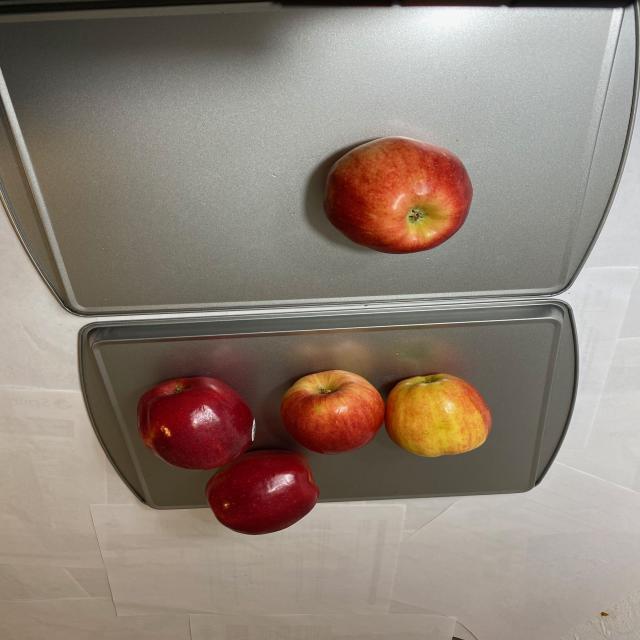apple: (131, 370, 493, 536), (316, 134, 472, 256)
